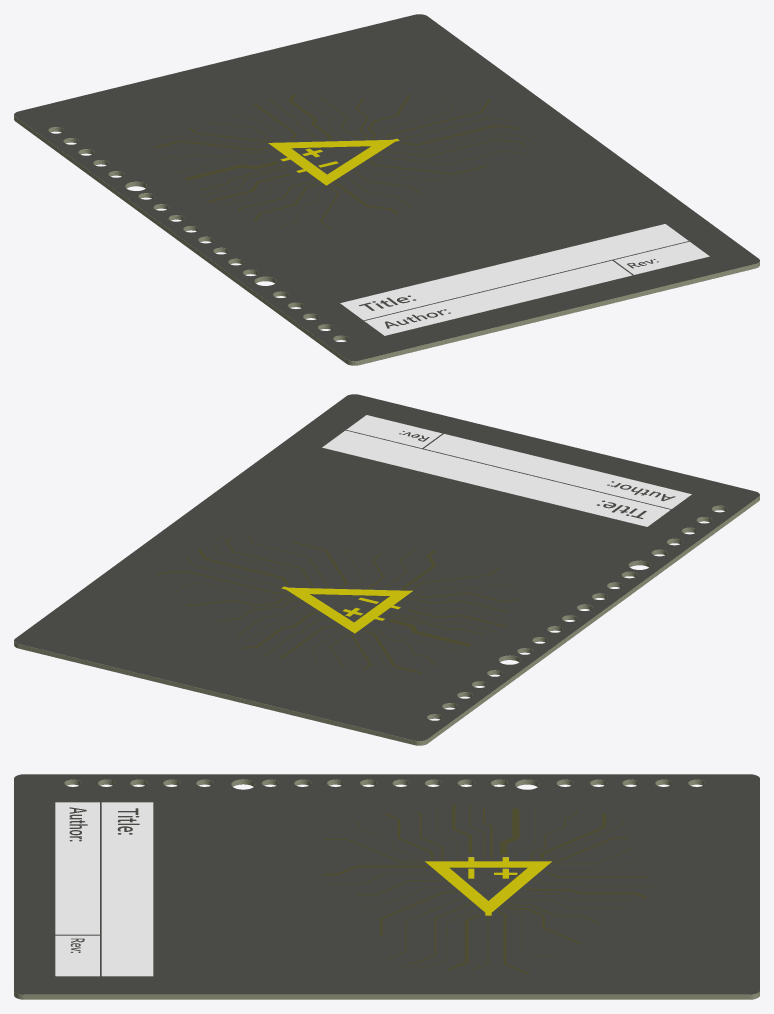
Rendered from board.glb.
3 views of the same model, one above another, from view 1: azimuth 30°, elevation 25°; view 2: azimuth 150°, elevation 25°; view 3: azimuth 270°, elevation 25° (orthographic). The views are drawn at different scales.
Parts seen in each view (by area): view 1: =>[0:1:1:5], =>[0:1:1:6], =>[0:1:1:4], =>[0:1:1:2]; view 2: =>[0:1:1:5], =>[0:1:1:6], =>[0:1:1:4], =>[0:1:1:2]; view 3: =>[0:1:1:5], =>[0:1:1:6], =>[0:1:1:4], =>[0:1:1:2].
Boxes of the visible parts, x1,y1,x2,y2 form: =>[0:1:1:5]: [14, 14, 759, 365]; =>[0:1:1:6]: [14, 15, 759, 365]; =>[0:1:1:4]: [340, 224, 709, 335]; =>[0:1:1:2]: [154, 95, 524, 228]; =>[0:1:1:5]: [14, 394, 759, 745]; =>[0:1:1:6]: [14, 395, 759, 745]; =>[0:1:1:4]: [322, 415, 691, 526]; =>[0:1:1:2]: [155, 536, 520, 672]; =>[0:1:1:5]: [14, 774, 759, 999]; =>[0:1:1:6]: [14, 775, 759, 999]; =>[0:1:1:4]: [55, 802, 153, 976]; =>[0:1:1:2]: [322, 805, 648, 973].
Size of the model in its own units: 0.151 by 0.00166 by 0.216.
